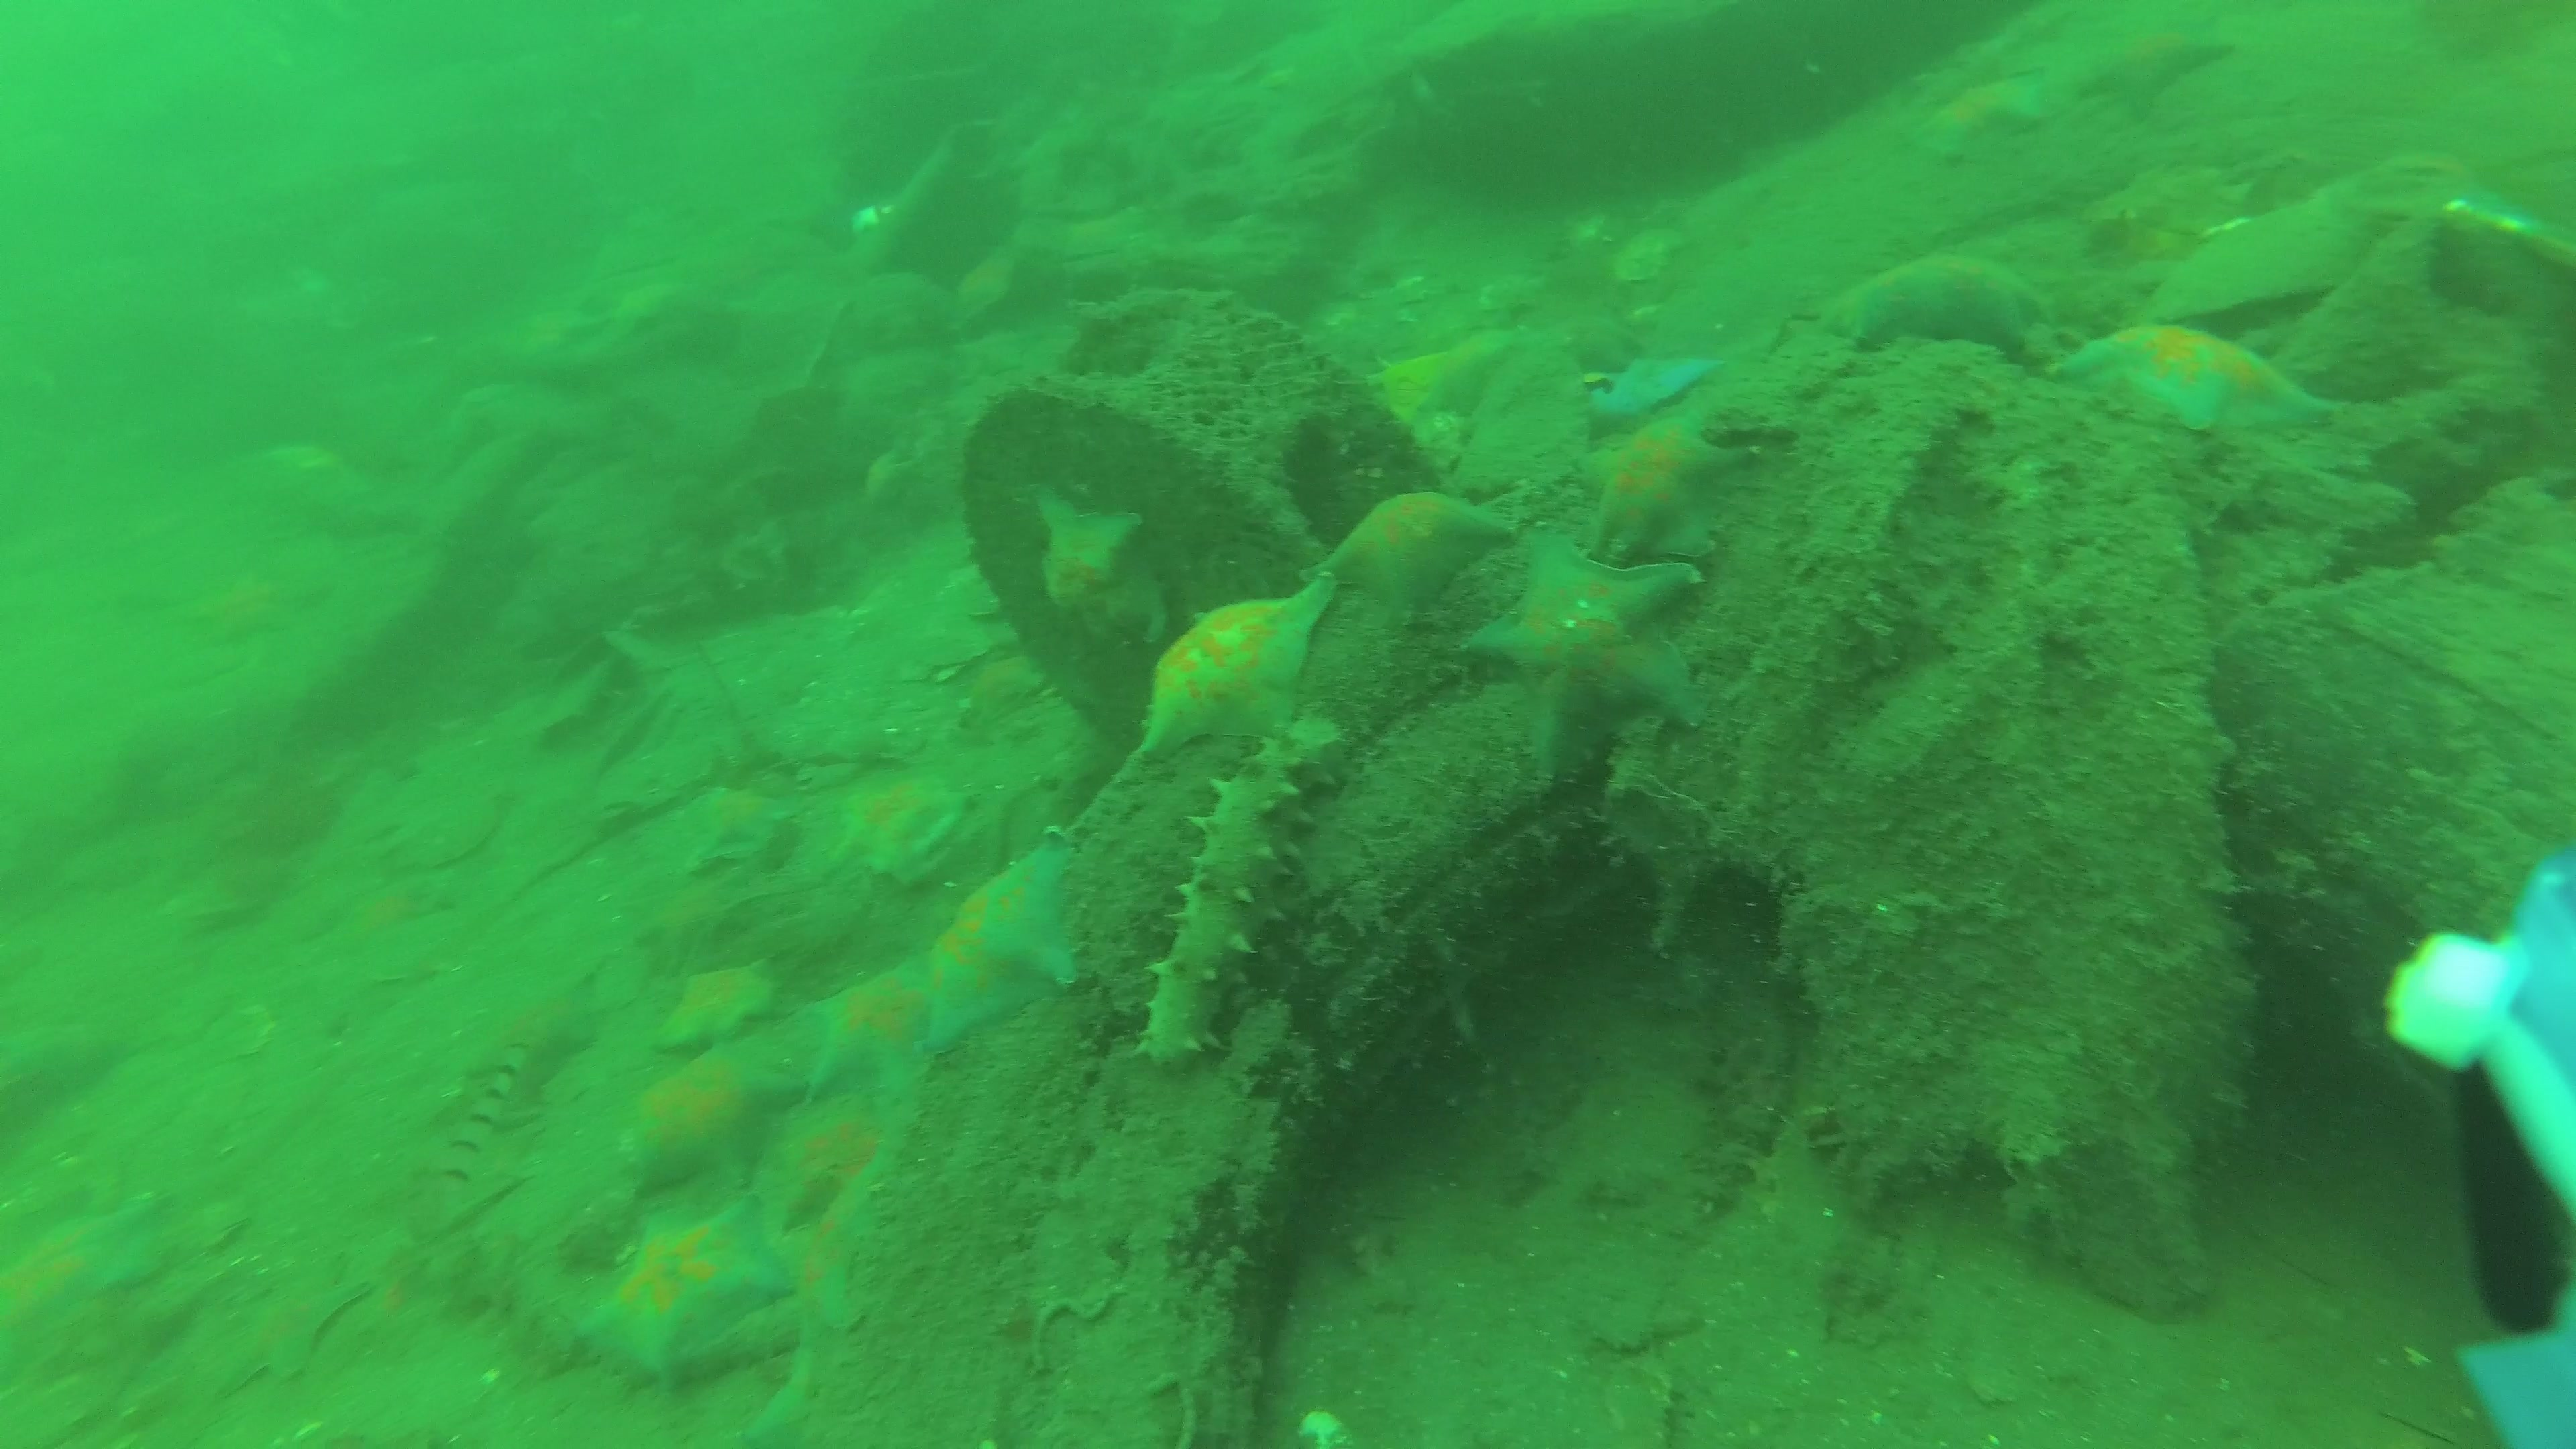holothurian: (1143, 745, 1304, 1072)
scallop: (396, 778, 518, 870), (1477, 276, 1571, 326), (1614, 234, 1690, 292)
starfish: (1456, 538, 1713, 736), (1122, 557, 1343, 771), (2049, 322, 2346, 449), (589, 1207, 791, 1385), (916, 833, 1074, 1058), (1323, 490, 1522, 646), (605, 1047, 809, 1198), (0, 1192, 165, 1378), (1815, 255, 2088, 359), (1566, 410, 1757, 559), (798, 966, 959, 1115), (1031, 483, 1171, 648), (796, 1150, 901, 1323), (0, 1040, 149, 1159), (2043, 34, 2231, 117), (1897, 73, 2063, 159), (165, 563, 327, 651), (234, 1279, 350, 1399), (839, 778, 973, 883), (297, 879, 455, 962), (214, 444, 382, 510), (676, 789, 786, 888), (663, 966, 782, 1049), (750, 1348, 833, 1442), (962, 656, 1060, 731)
